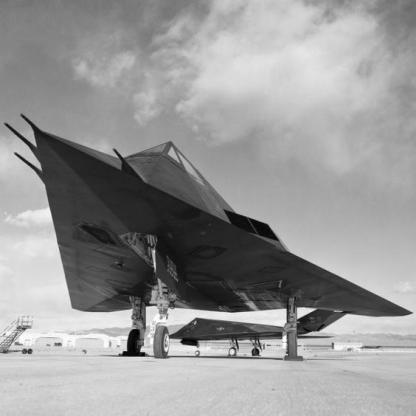F117: (4, 114, 415, 358), (170, 310, 349, 357), (360, 346, 383, 351)
